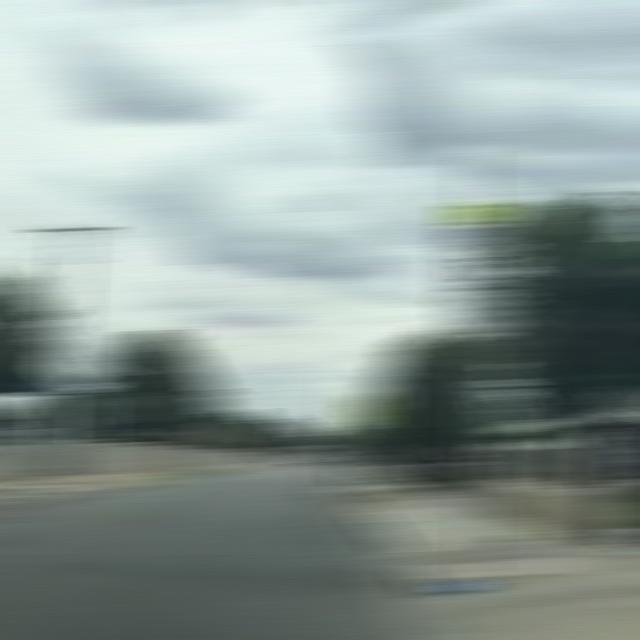speedLimit15: (443, 218, 507, 290)
